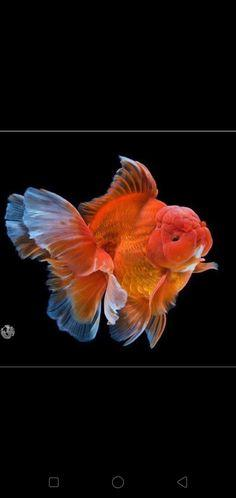goldfish: (5, 156, 222, 337)
